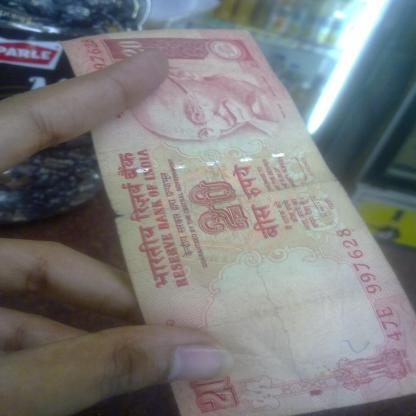Old20Front: (58, 28, 416, 416)
